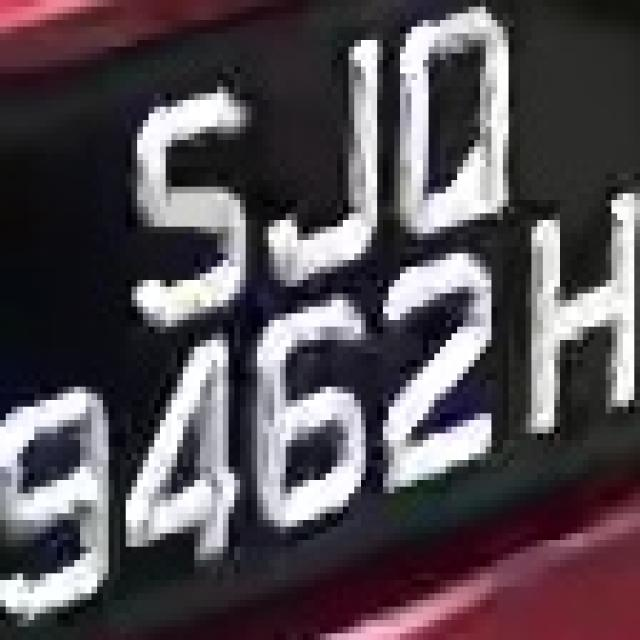2: (366, 247, 497, 500)
4: (114, 347, 263, 593)
6: (246, 300, 383, 533)
9: (0, 360, 120, 627)
H: (525, 200, 640, 460)
J: (263, 40, 388, 280)
Q: (388, 0, 514, 253)
S: (103, 54, 263, 334)
